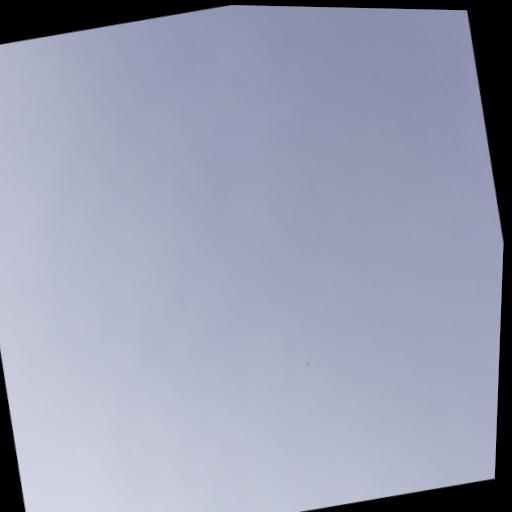drones: (305, 359, 312, 369)
